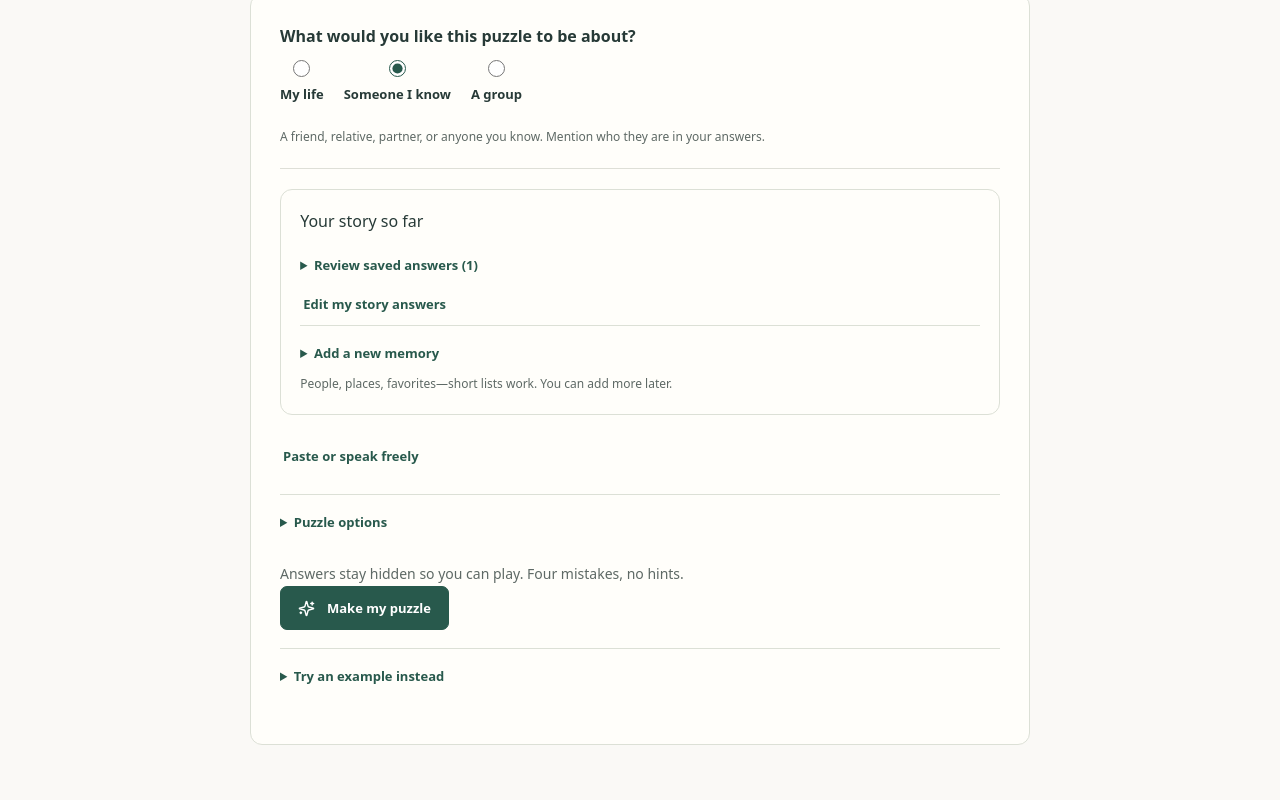
Test: played connections and optional fresh memories › turns Claude's specific missing-memory request into a focused modal, saves the answer and continues
(page scrolled)
Click the button "Make my puzzle".
click(364, 608)  # box top-left (280, 586), bottom-right (449, 630)
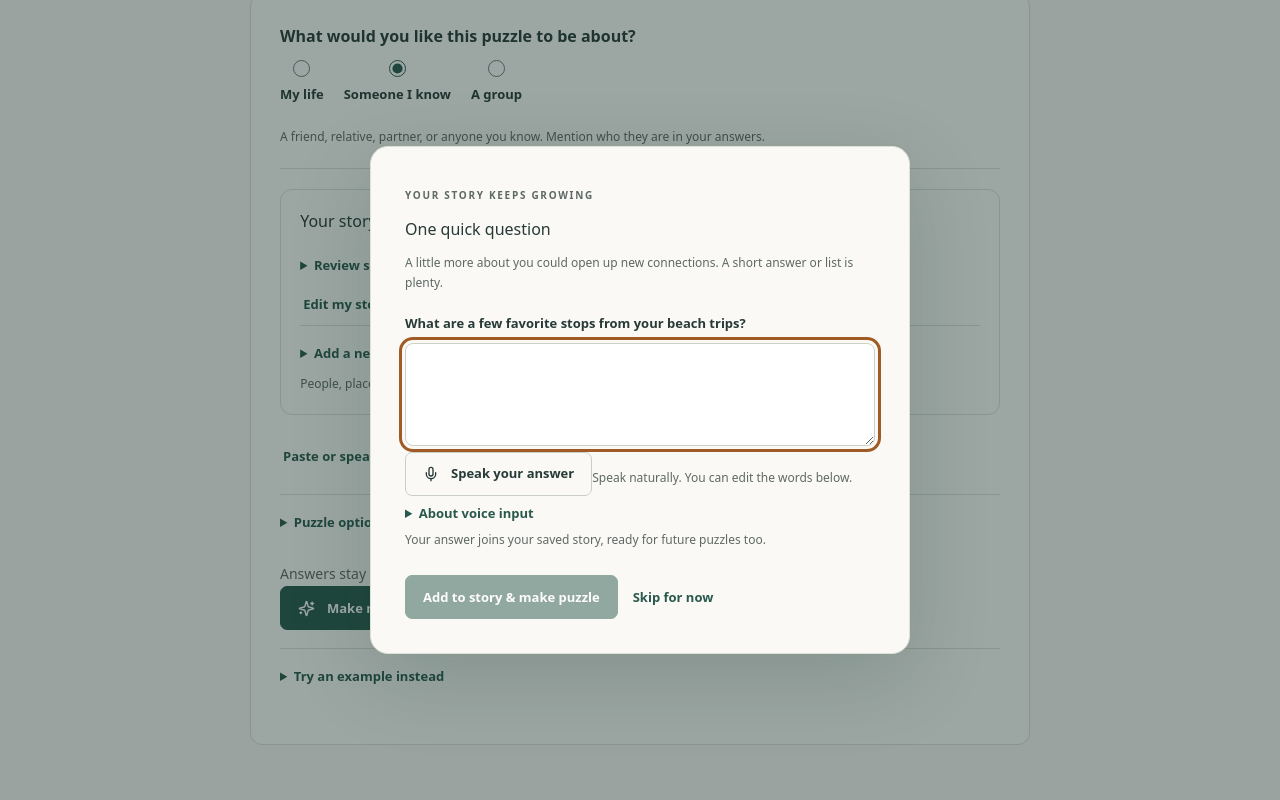
Type "The lighthouse and the pier" into the text box labelled "What are a few favorite stops from your beach trips?".
click(640, 394); type("The lighthouse and the pier")  # box top-left (405, 343), bottom-right (875, 446)
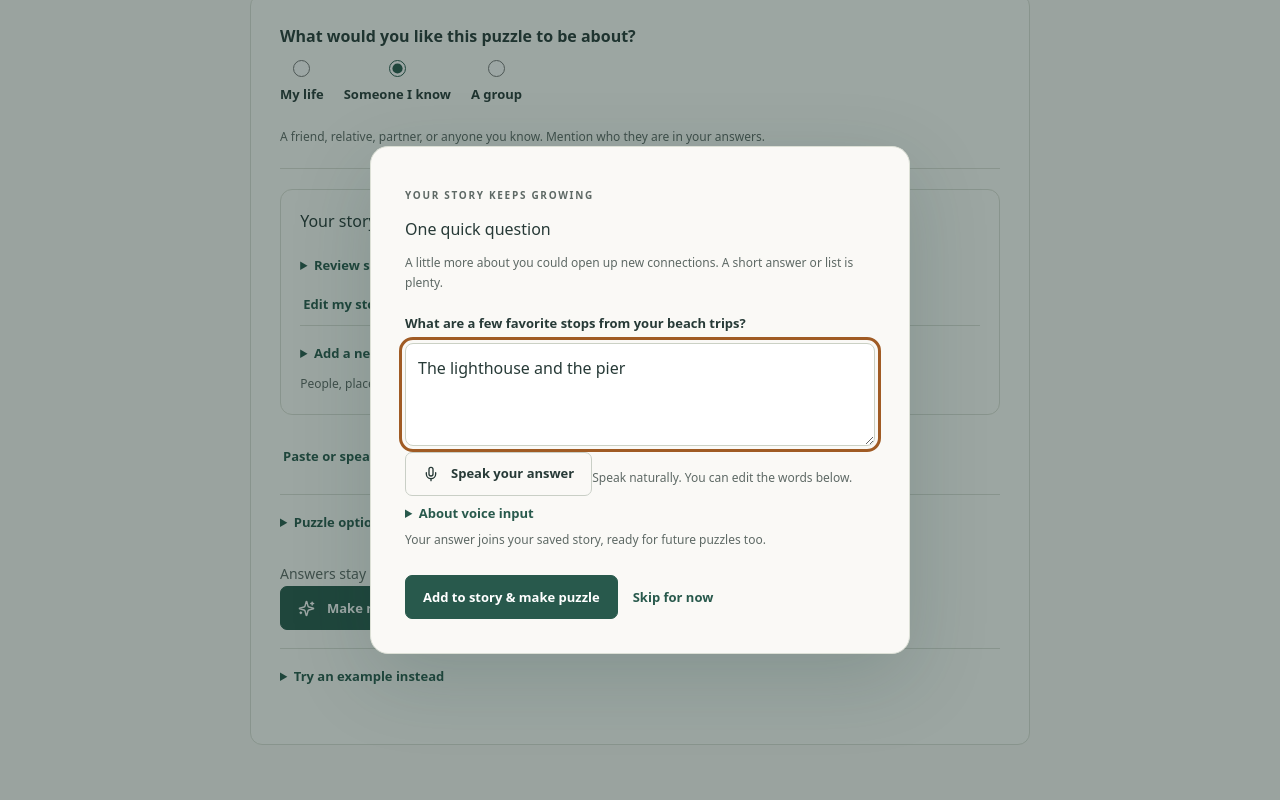
Click the button "Add to story & make puzzle".
click(511, 597)  # box top-left (405, 575), bottom-right (618, 619)
(page scrolled)
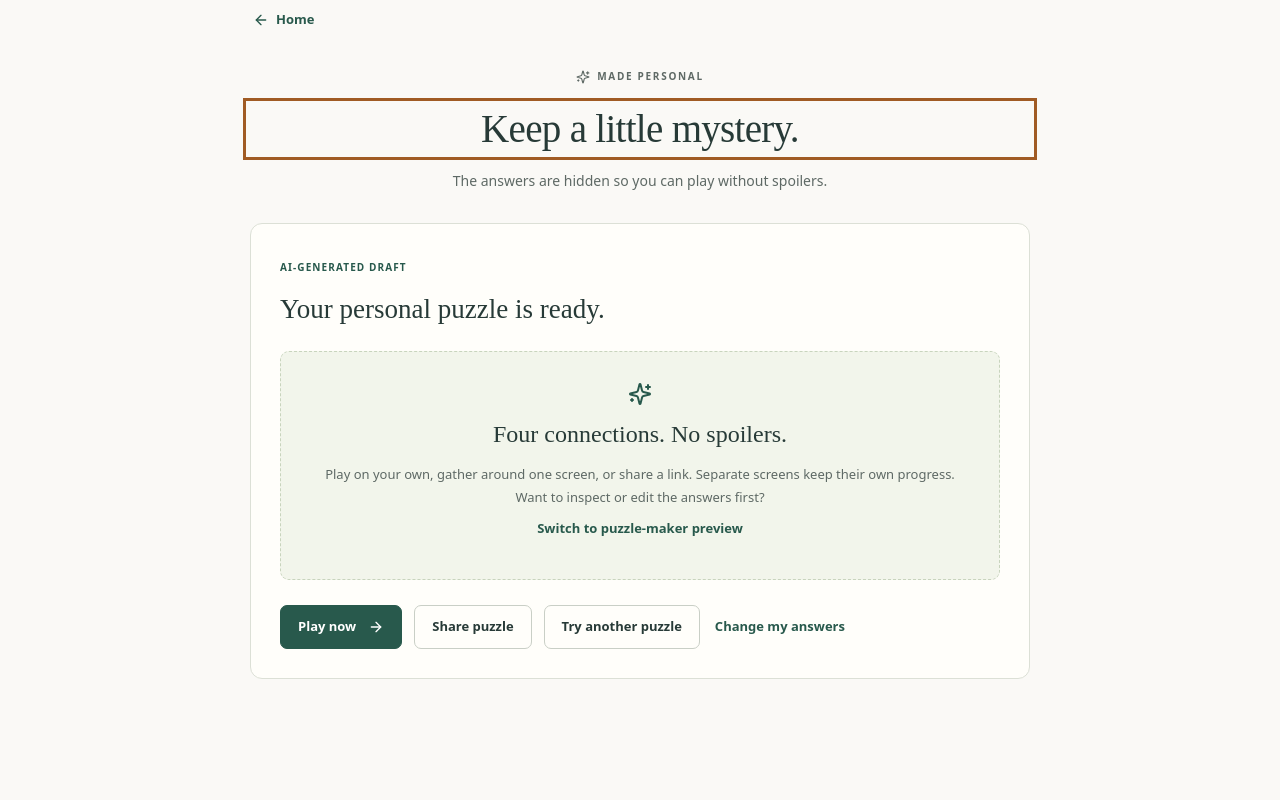
Check: the button "Share puzzle" is enabled, box top-left (414, 605), bottom-right (532, 649)
Check: the dialog is gone
